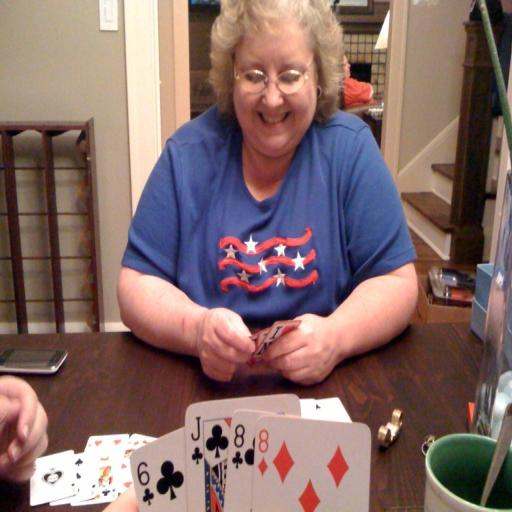Person: (106, 62, 452, 363)
no_gloves: (245, 282, 348, 356), (188, 280, 256, 350)
no_goggle: (228, 95, 316, 142)
no_helmet: (190, 66, 356, 173)
none: (138, 147, 406, 312)
